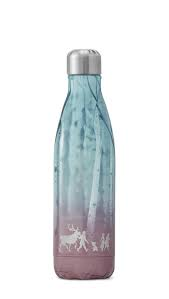bottle: (49, 45, 120, 283)
